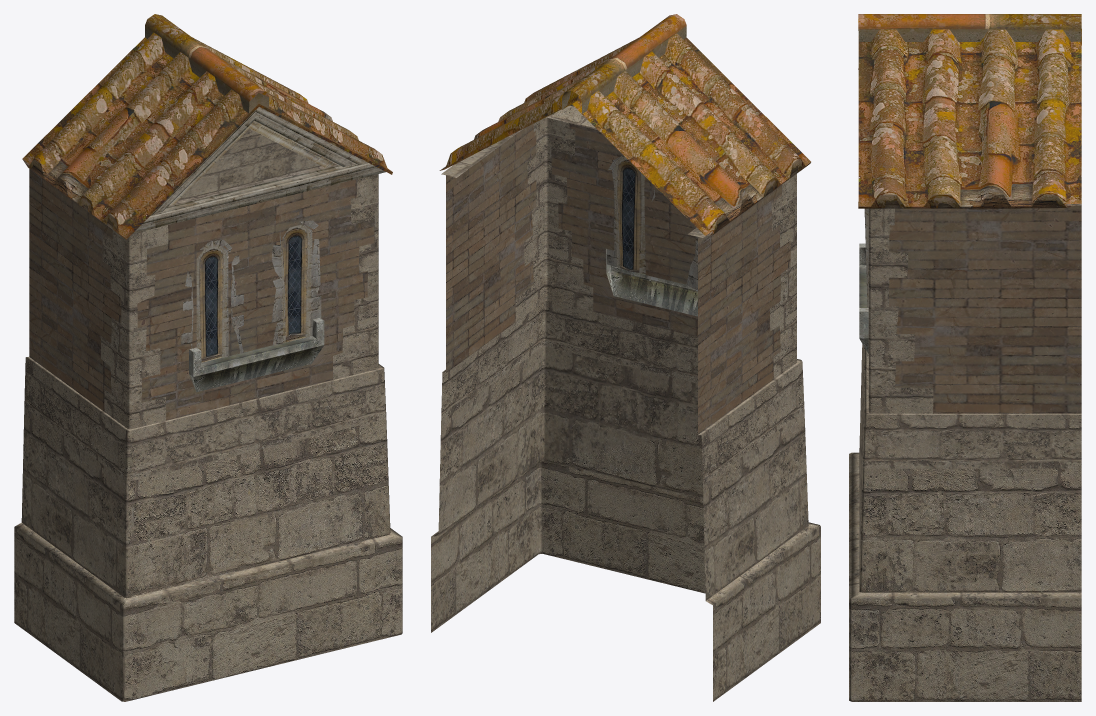
Rendered from Basic16.fbx.
3 views of the same model, side by side, from view 1: azimuth 30°, elevation 25°; view 2: azimuth 150°, elevation 25°; view 3: azimuth 270°, elevation 25° (orthographic). The views are drawn at different scales.
Visible parts, largest first — view 1: LV_Campagna_City_CommonSmallBuilding01_SM_CNH; view 2: LV_Campagna_City_CommonSmallBuilding01_SM_CNH; view 3: LV_Campagna_City_CommonSmallBuilding01_SM_CNH.
Part boxes in pixels (x1,y1,x2,y2): LV_Campagna_City_CommonSmallBuilding01_SM_CNH: (14, 14, 402, 701); LV_Campagna_City_CommonSmallBuilding01_SM_CNH: (431, 14, 820, 701); LV_Campagna_City_CommonSmallBuilding01_SM_CNH: (849, 14, 1081, 701).
Bounding box in the file's own units: 0.716 × 1.4 × 0.4803.
